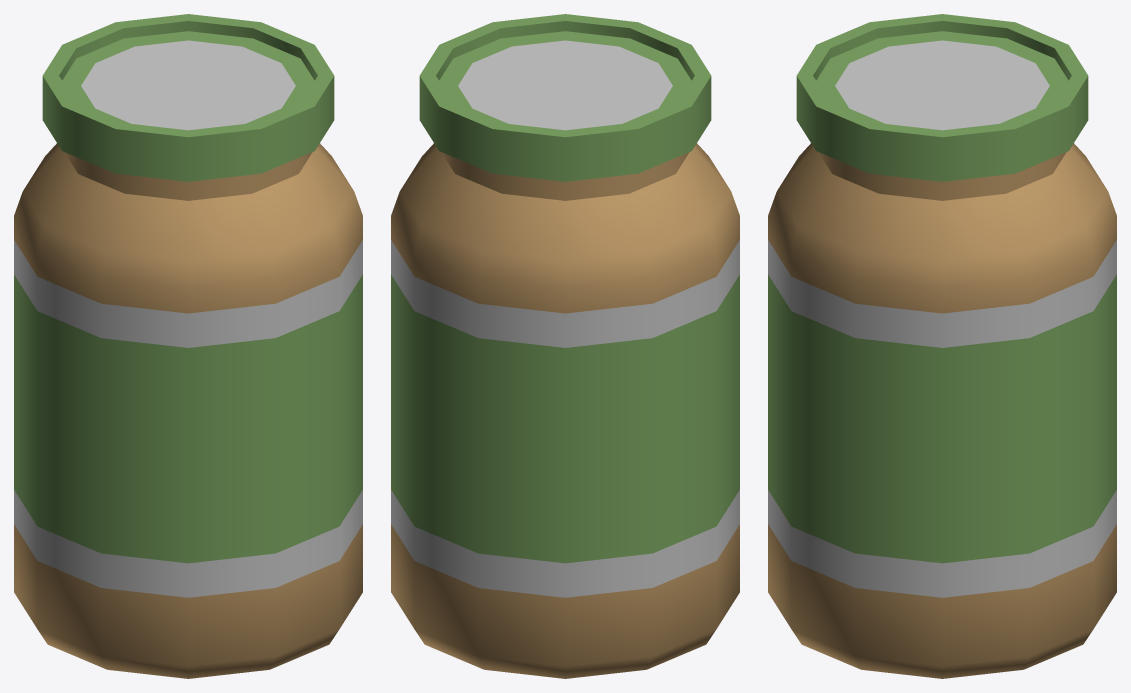
The model's file is BabyFood_01.fbx.
3 views of the same model, side by side, from view 1: azimuth 30°, elevation 25°; view 2: azimuth 150°, elevation 25°; view 3: azimuth 270°, elevation 25° (orthographic).
Visible parts, largest first — view 1: BabyFood_01, BabyFood_01_Lid; view 2: BabyFood_01, BabyFood_01_Lid; view 3: BabyFood_01, BabyFood_01_Lid.
Boxes of the visible parts, x1,y1,x2,y2 form: BabyFood_01: (14,143,362,678); BabyFood_01_Lid: (42,14,334,181); BabyFood_01: (391,143,739,678); BabyFood_01_Lid: (419,14,711,181); BabyFood_01: (768,143,1116,678); BabyFood_01_Lid: (796,14,1088,181).
Size of the model in its own units: 0.0953 by 0.1643 by 0.0953.
